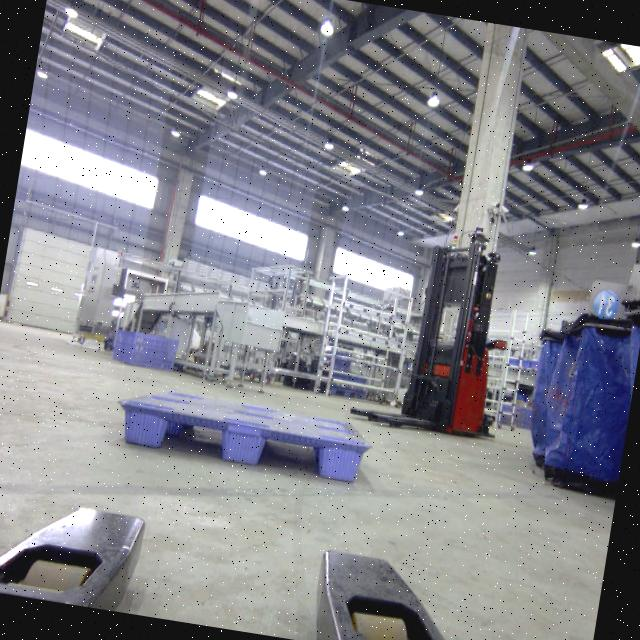block: (121, 399, 180, 448), (222, 418, 272, 468), (316, 436, 368, 478)
front: (121, 398, 368, 483)
hole pallet: (158, 424, 225, 462), (260, 438, 317, 477)
